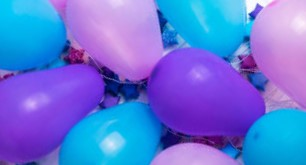Balloon: (1, 64, 104, 165), (147, 48, 265, 136), (67, 1, 162, 80), (55, 101, 162, 165), (158, 1, 249, 57), (1, 1, 66, 71), (242, 109, 306, 165)
